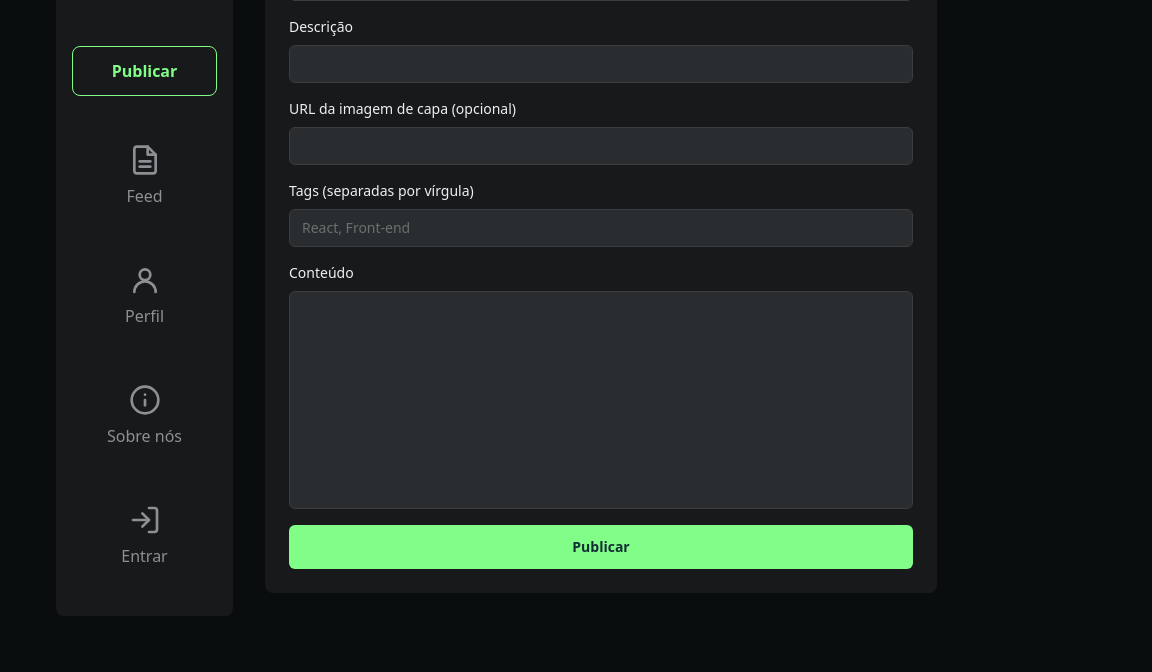
Test: CreatePostPage › shows validation errors when required fields are empty
(page scrolled)
Click the button "Publicar" at (601, 547), box [289, 525, 913, 569]
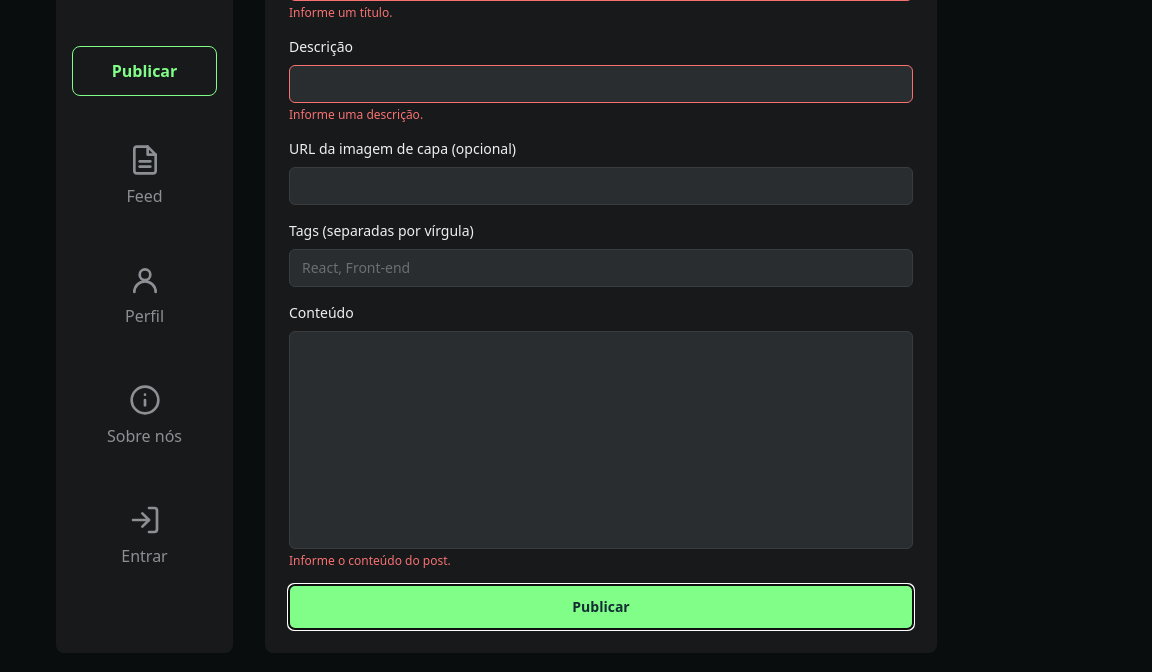
Result: the text "Informe um título." is shown at [289, 4, 392, 21]
Result: the text "Informe uma descrição." is shown at [289, 106, 423, 123]
Result: the text "Informe o conteúdo do post." is shown at [289, 552, 451, 569]
